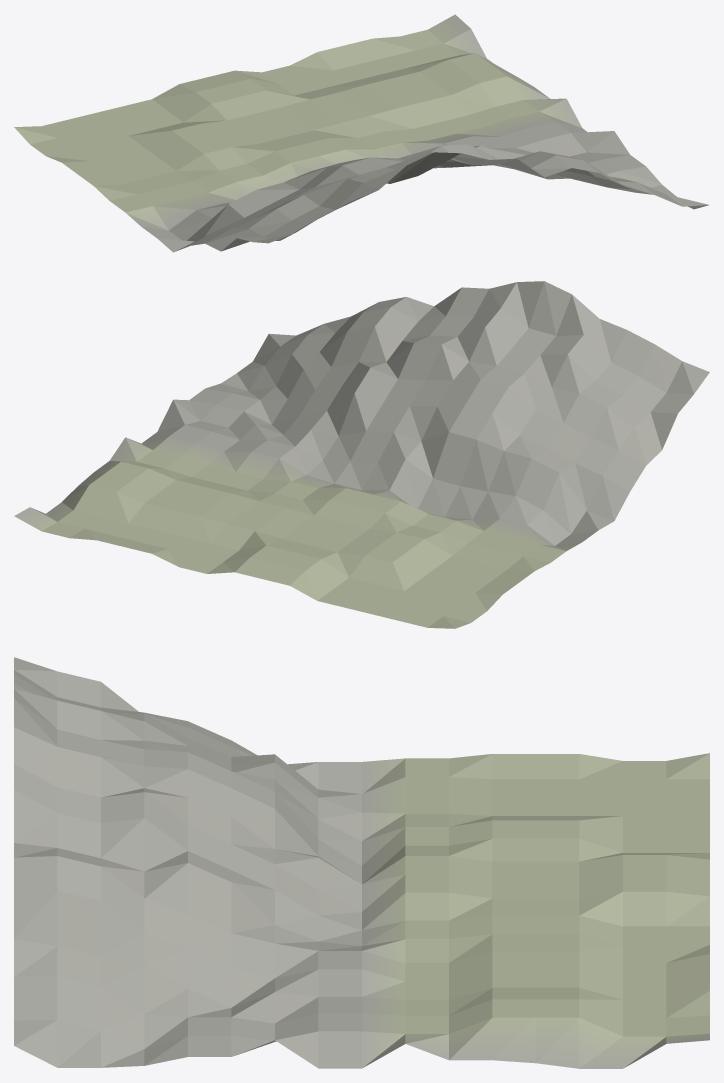
3 renders of one model, top to bottom at view 1: azimuth 30°, elevation 25°; view 2: azimuth 150°, elevation 25°; view 3: azimuth 270°, elevation 25°, orthographic. The views are drawn at different scales.
Size of the model in its own units: 32 by 9.56 by 32.
